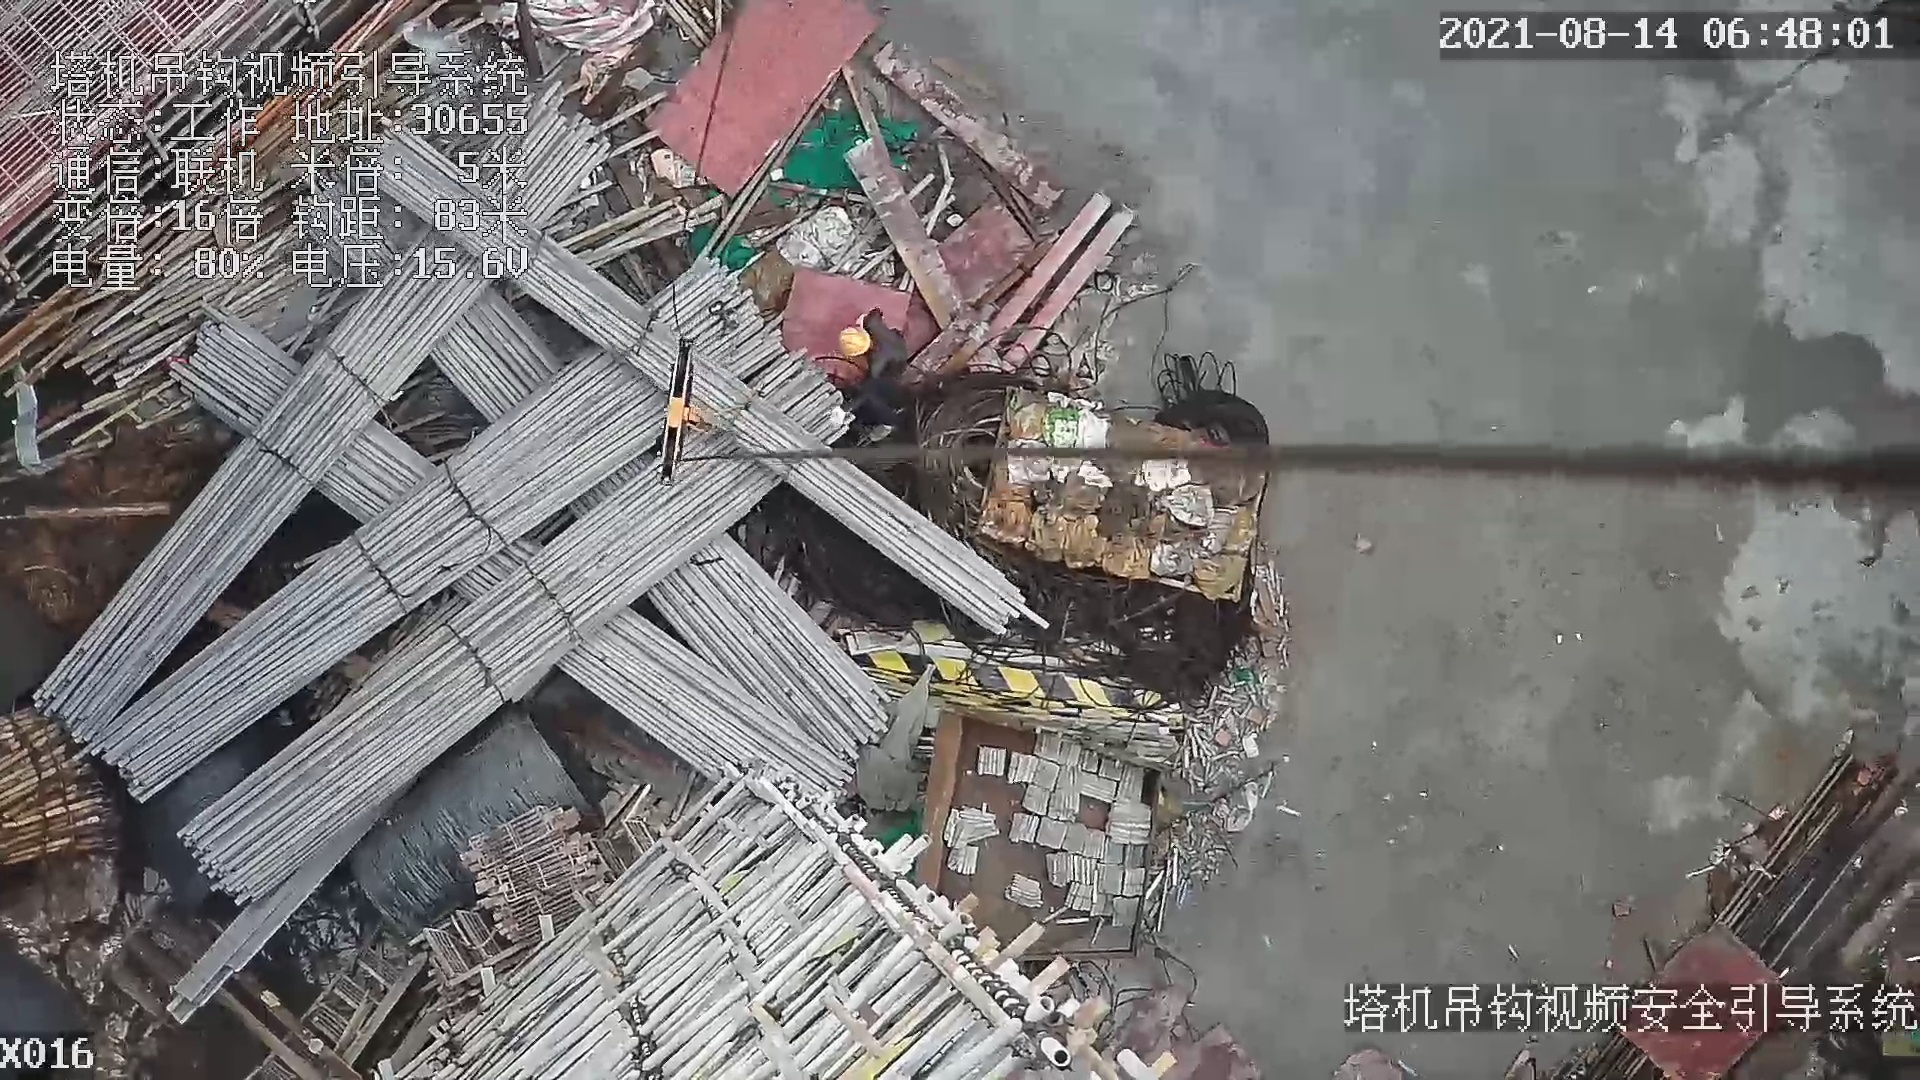board: (644, 5, 889, 191)
helmet: (840, 327, 871, 357)
hook: (647, 330, 704, 494)
person: (822, 308, 910, 444)
scaffold: (1, 704, 126, 864)
